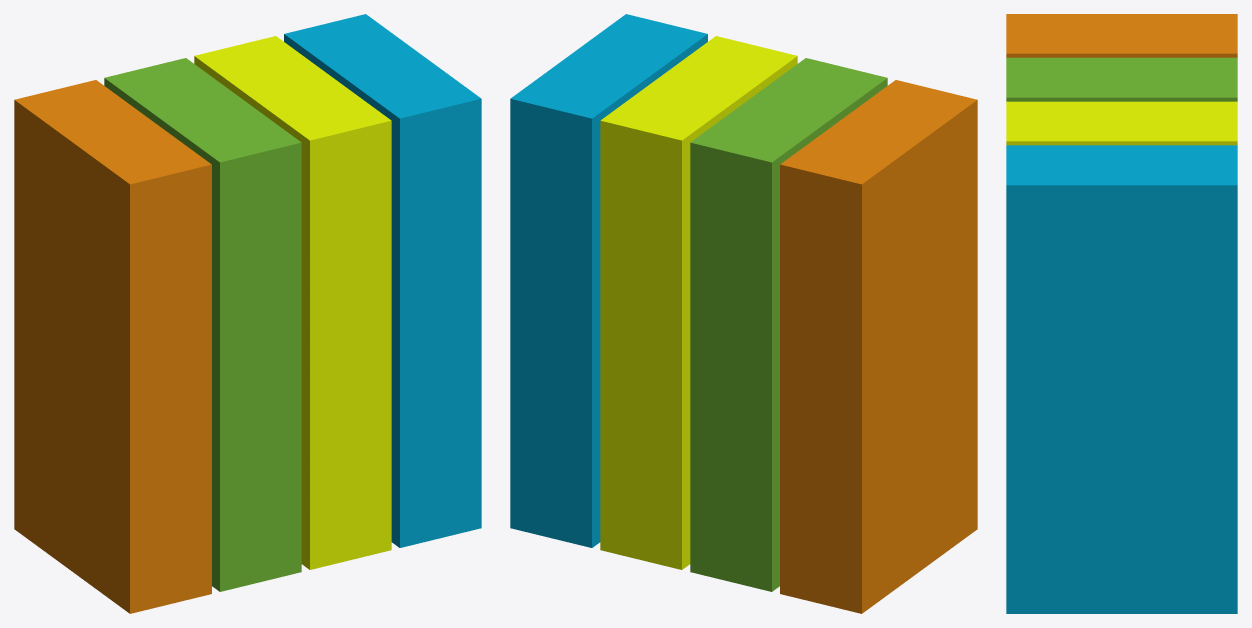
The model's file is Books.fbx.
3 renders of one model, left to right at view 1: azimuth 30°, elevation 25°; view 2: azimuth 150°, elevation 25°; view 3: azimuth 270°, elevation 25°, orthographic.
Visible parts, largest first — view 1: Cube.031; view 2: Cube.031; view 3: Cube.031.
Boxes of the visible parts, x1=… form: Cube.031: x1=14, y1=14, x2=481, y2=613; Cube.031: x1=510, y1=14, x2=977, y2=613; Cube.031: x1=1006, y1=14, x2=1237, y2=613.
Bounding box in the file's own units: 0.6475 × 0.7561 × 0.3693.
